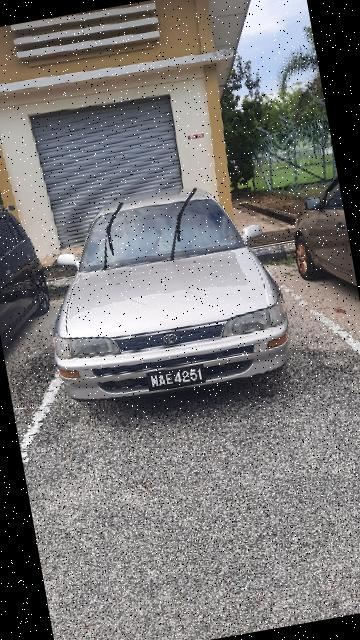License_Plate: (145, 362, 211, 398)
car: (24, 168, 306, 424)
